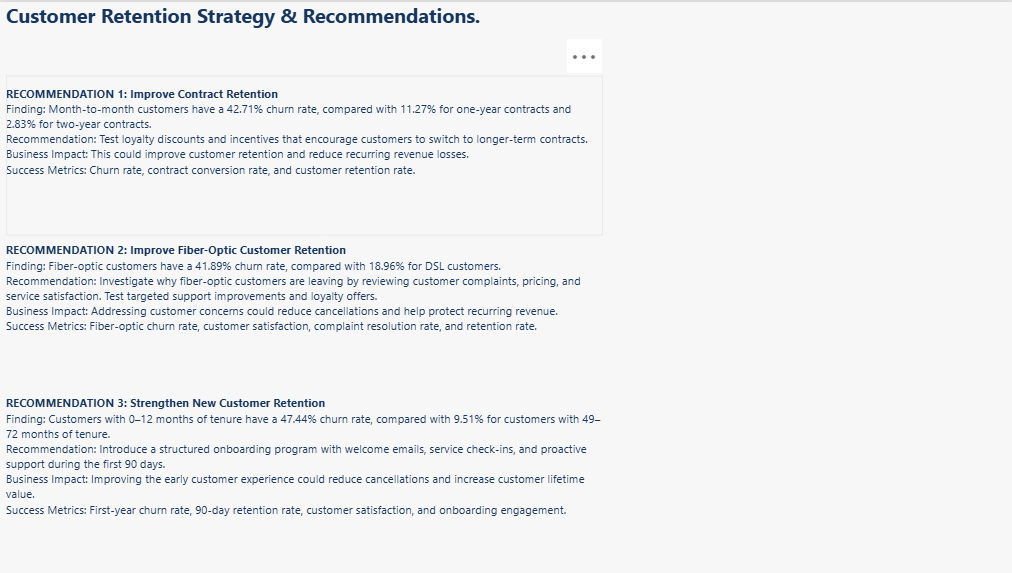

The dashboard page shown, as its layout file describes it:
{"tool":"powerbi","page":{"name":"Business Reconmendations","canvas":[1920,1080],"ordinal":1},"visuals":[{"type":"textbox","box":[10,0,950,280],"z":0},{"type":"textbox","box":[10,140,1130,303.3],"z":1},{"type":"textbox","box":[10,452.5,1130,255],"z":2},{"type":"textbox","box":[10,742.5,1130,317.5],"z":3}]}

Visuals, with their boxes in screenshot pixels (x1, y1, x2, y2), scaled from the page's 1920x1080 canvas onto the 1012x573 screenshot:
textbox: bbox(5, 0, 506, 149)
textbox: bbox(5, 74, 601, 235)
textbox: bbox(5, 240, 601, 375)
textbox: bbox(5, 394, 601, 562)
